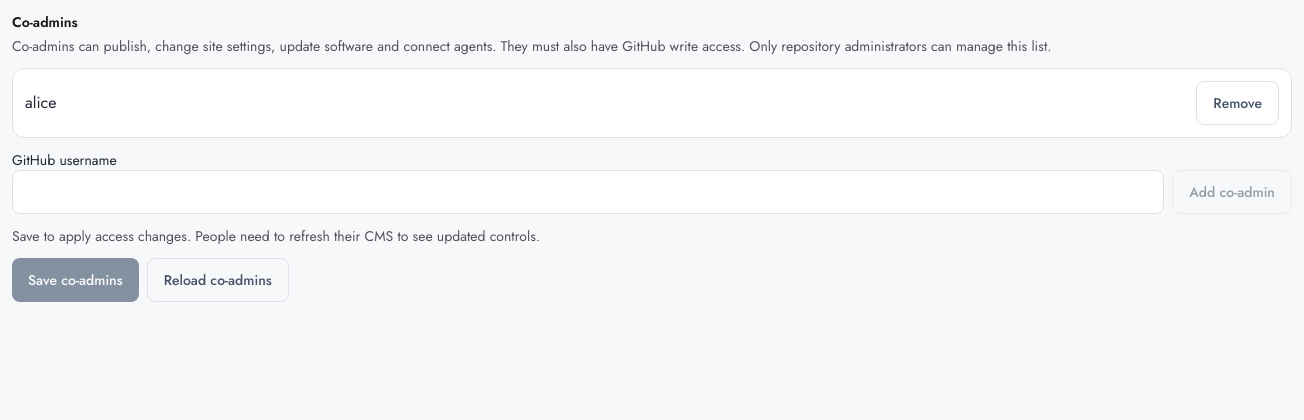
Test: owner adds and removes co-admins and saves directly with GitHub
Step 1. Type "bob" into the field labelled "GitHub username" → (588, 192), box [12, 170, 1164, 214]
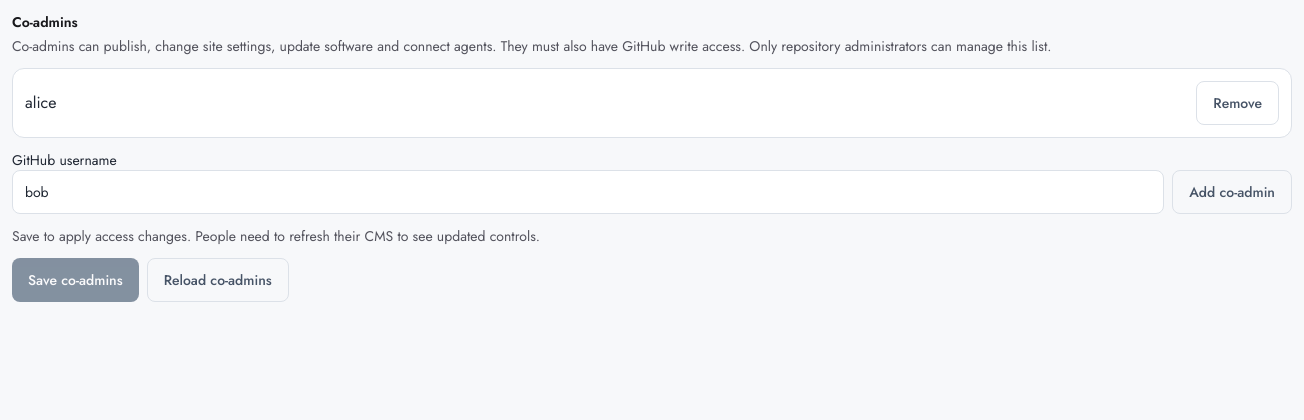
Step 2. Submit the form, box [12, 150, 1292, 214]
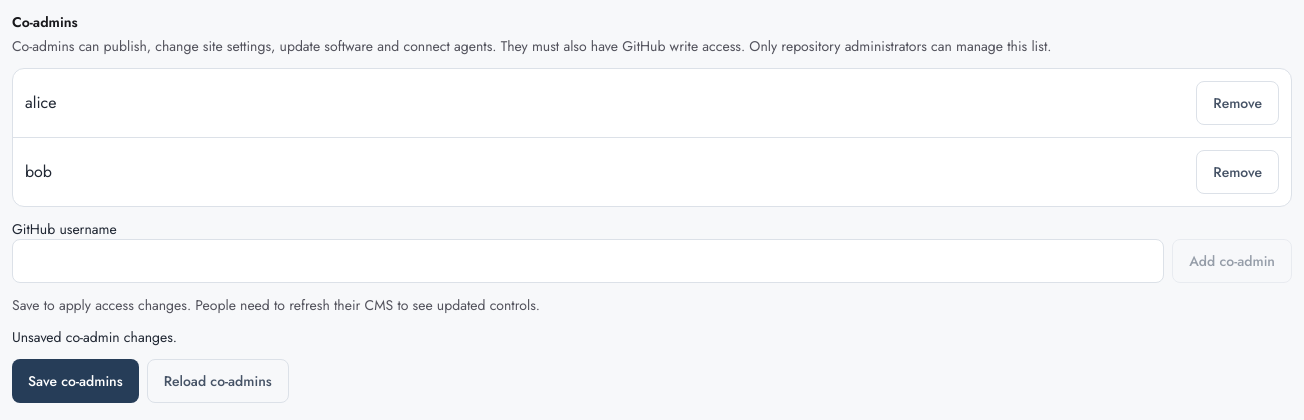
Step 3. Click the button with aria-label "Remove alice" → (1238, 103), box [1196, 81, 1279, 125]
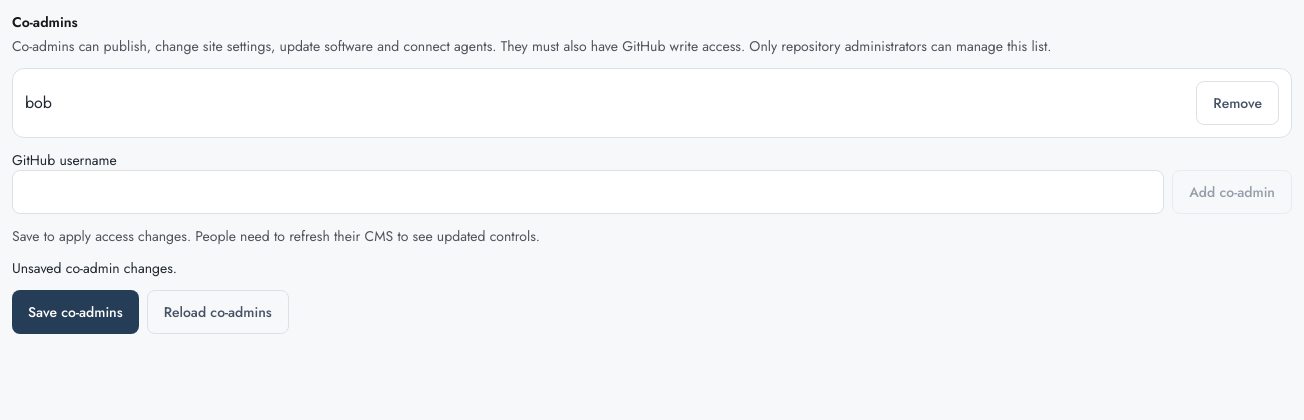
Check: the text "Unsaved co-admin changes" is shown, box [12, 258, 177, 278]
Step 4. Click the button "Save co-admins" → (75, 312), box [12, 290, 139, 334]
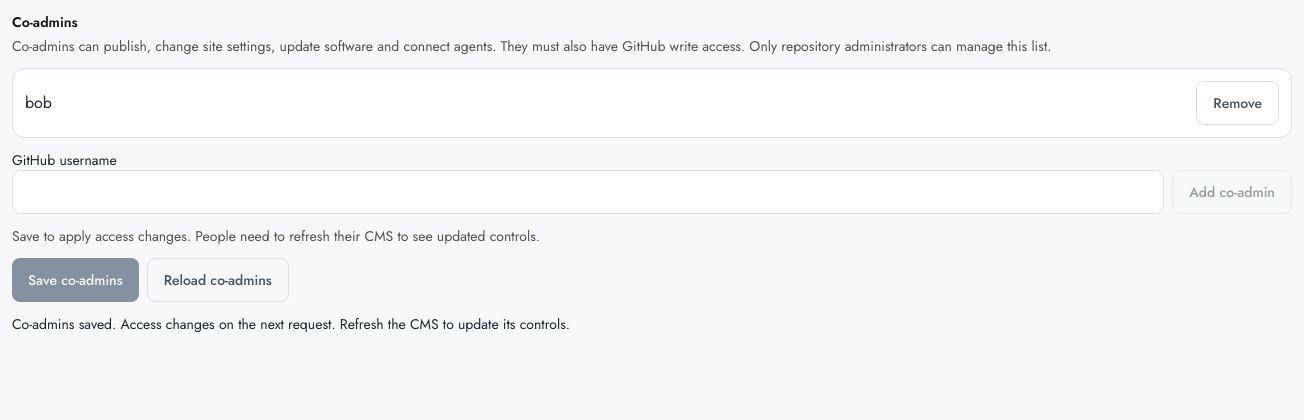
Check: the text "Access changes on the next request" is shown, box [12, 314, 570, 334]
Check: the text "Unsaved co-admin changes" is gone
Check: the button "Save co-admins" is disabled, box [12, 258, 139, 302]
